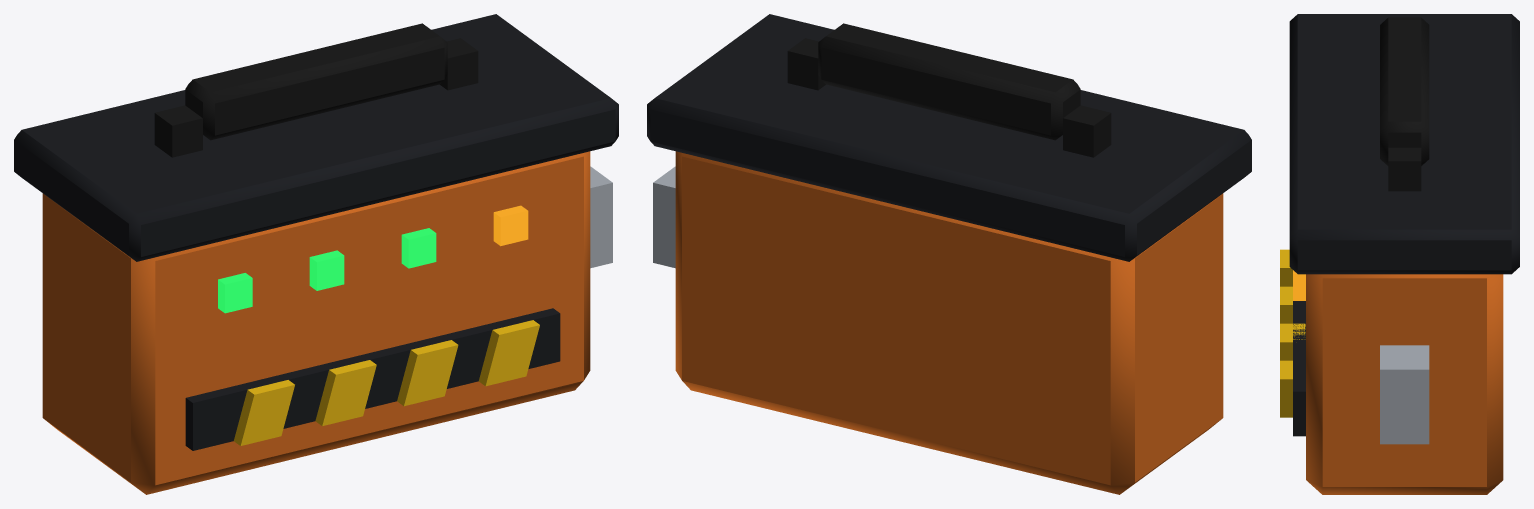
Rendered from capacitor_power_cell_pack.glb.
The picture shows the model from 3 angles, left to right: view 1: azimuth 30°, elevation 25°; view 2: azimuth 150°, elevation 25°; view 3: azimuth 270°, elevation 25°; orthographic projection. The views are drawn at different scales.
Visible parts, largest first — view 1: capacitor_power_cell_pack; view 2: capacitor_power_cell_pack; view 3: capacitor_power_cell_pack.
Part boxes in pixels (<box>): capacitor_power_cell_pack: <box>14,14,618,494</box>; capacitor_power_cell_pack: <box>647,14,1251,494</box>; capacitor_power_cell_pack: <box>1280,14,1519,494</box>.
Bounding box in the file's own units: 0.345 × 0.22 × 0.1458.
